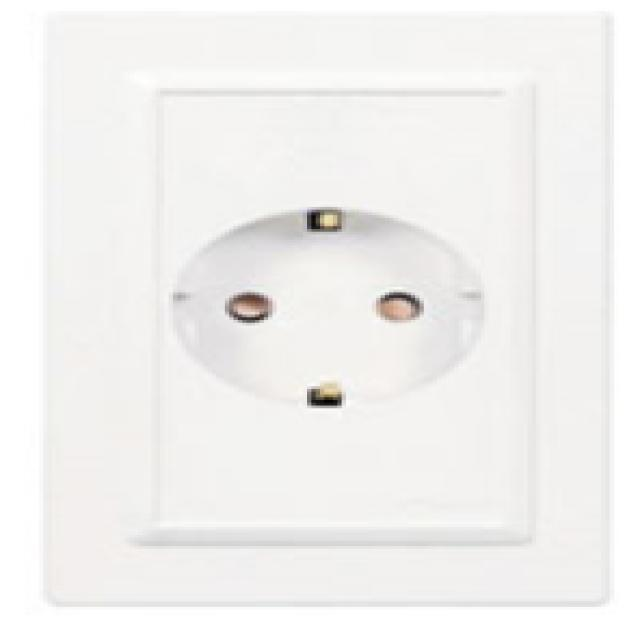typeb: (30, 11, 626, 624)
